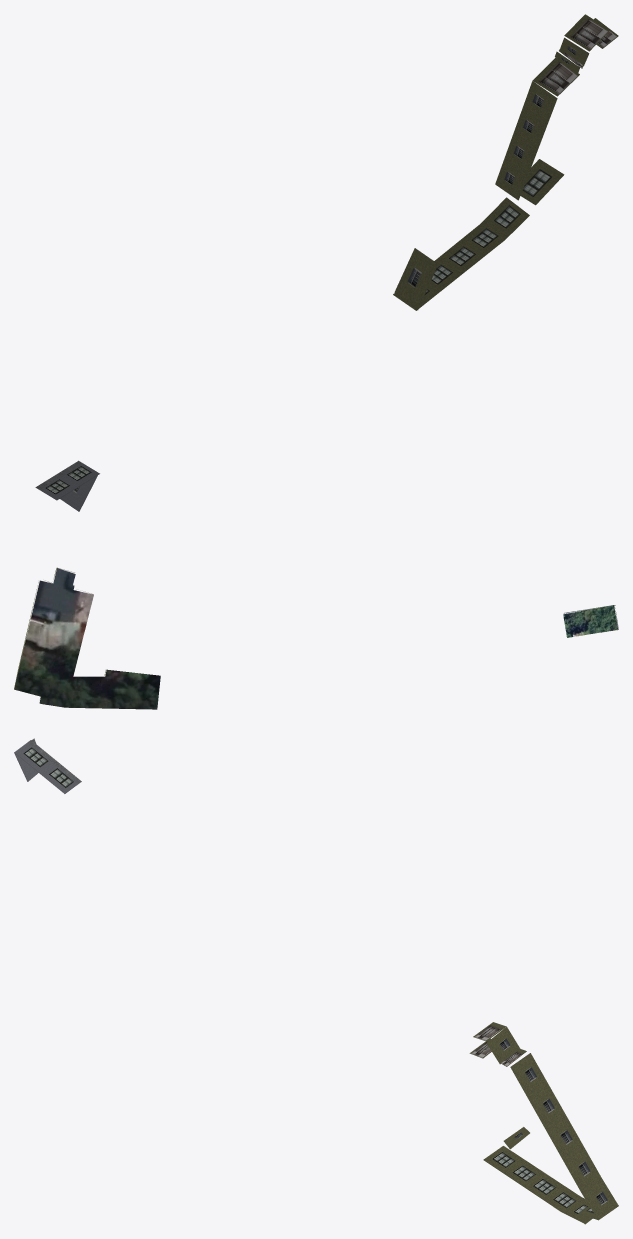
File: tile_LOD4_r13_c13.glb
3 views of the same model, one above another, from view 1: azimuth 30°, elevation 25°; view 2: azimuth 150°, elevation 25°; view 3: azimuth 270°, elevation 25° (orthographic). The views are drawn at different scales.
Size of the model in its own units: 129 by 34.25 by 89.
Materials: 8 (8 with a texture image).
